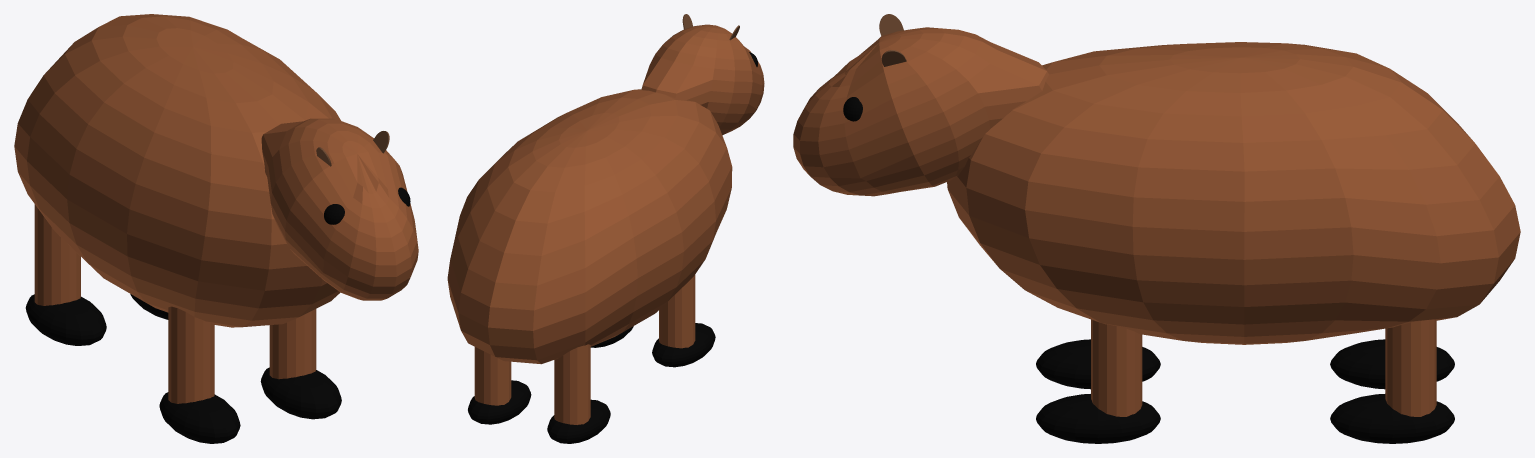
The model's file is capybara.fbx.
3 views of the same model, side by side, from view 1: azimuth 30°, elevation 25°; view 2: azimuth 150°, elevation 25°; view 3: azimuth 270°, elevation 25° (orthographic). The views are drawn at different scales.
Parts seen in each view (by area): view 1: Sphere, Sphere.001, Sphere.004, Sphere.005, Sphere.006, Sphere.007, Circle.001; view 2: Sphere, Sphere.001, Sphere.004, Sphere.006, Sphere.003; view 3: Sphere, Sphere.001, Sphere.003, Sphere.005, Sphere.004, Sphere.006, Circle.001.
Boxes of the visible parts, box(x1,y1,x2,y2) form: Sphere: box(14, 14, 340, 403); Sphere.001: box(261, 118, 418, 300); Sphere.004: box(25, 294, 106, 345); Sphere.005: box(260, 367, 341, 419); Sphere.006: box(159, 392, 240, 443); Sphere.007: box(324, 187, 410, 224); Circle.001: box(316, 131, 389, 166); Sphere: box(447, 89, 732, 424); Sphere.001: box(641, 24, 764, 135); Sphere.004: box(547, 399, 610, 443); Sphere.006: box(652, 323, 715, 367); Sphere.003: box(468, 380, 531, 424); Sphere: box(947, 42, 1520, 416); Sphere.001: box(793, 27, 1048, 196); Sphere.003: box(1330, 394, 1454, 443); Sphere.005: box(1036, 394, 1160, 443); Sphere.004: box(1330, 339, 1454, 389); Sphere.006: box(1036, 339, 1160, 389); Circle.001: box(879, 14, 906, 66).
Size of the model in its own units: 172 by 231 by 396.
